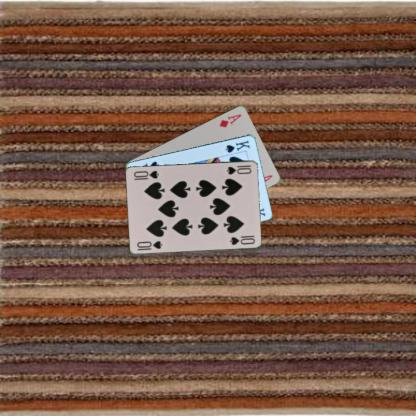10s: (224, 162, 253, 176), (134, 238, 164, 250)
Ad: (216, 111, 242, 128)
Ks: (223, 138, 251, 154)
